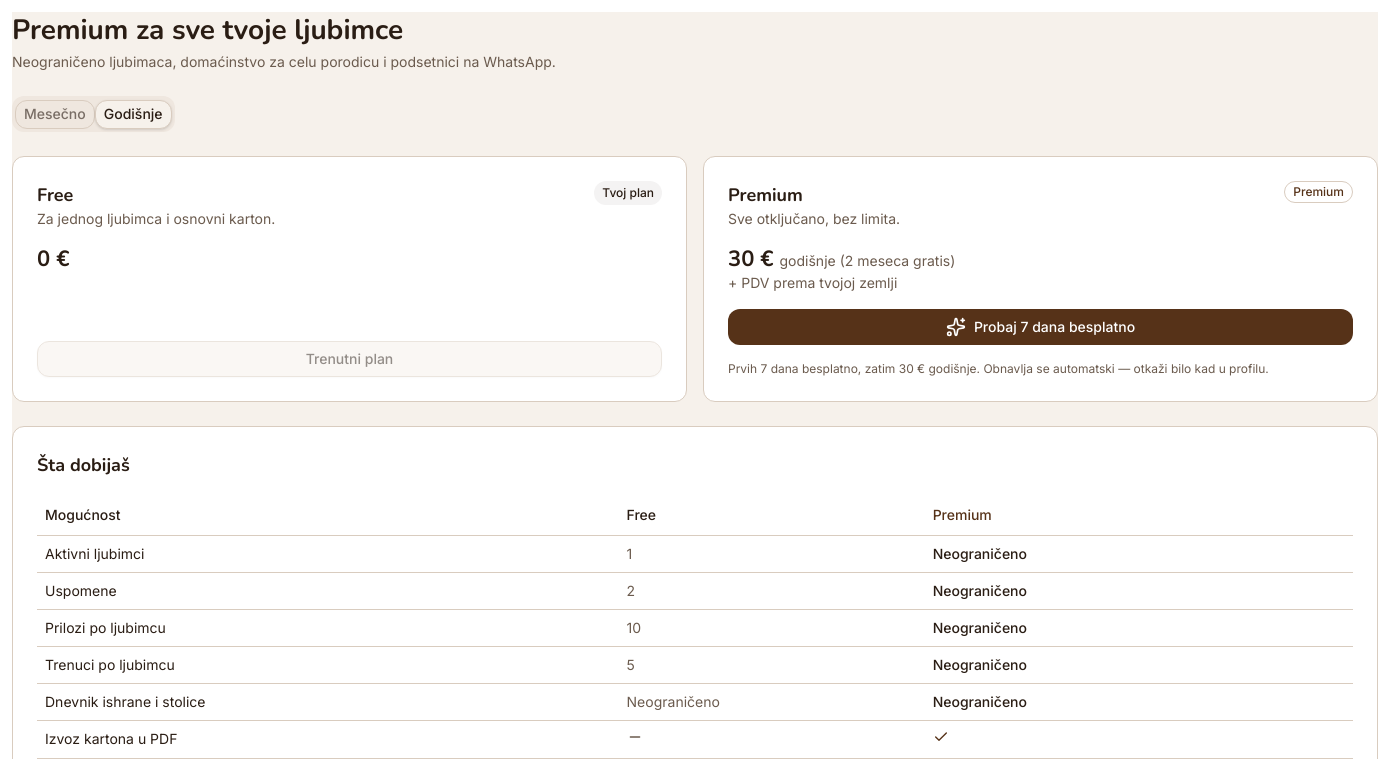
Scenario: S17 Premium — payments_coming_soon (EP-45 local mode) › a 503 payment_provider_unavailable from EP-45 → payments_coming_soon, no Paddle.js
What coordinates should you click on to do the following:
click the button "Probaj 7 dana besplatno"
I would click on:
 (1040, 327)
Its box is left=728, top=309, right=1353, bottom=345.
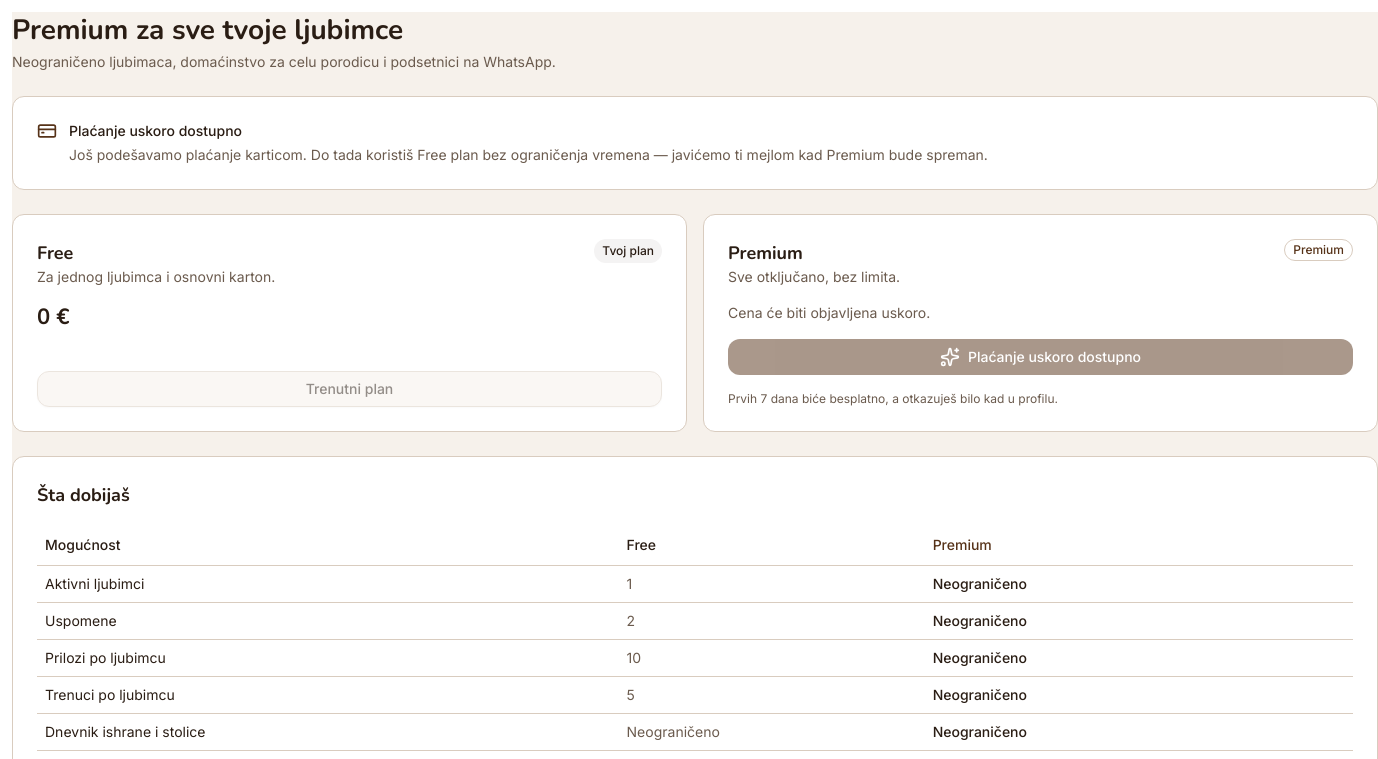
expect the message shows "Plaćanje uskoro dostupno": met, box left=69, top=122, right=242, bottom=139
expect the text "Cena će biti objavljena uskoro." is shown: met, box left=728, top=304, right=930, bottom=321
expect the button "Plaćanje uskoro dostupno" is disabled: met, box left=728, top=339, right=1353, bottom=375
